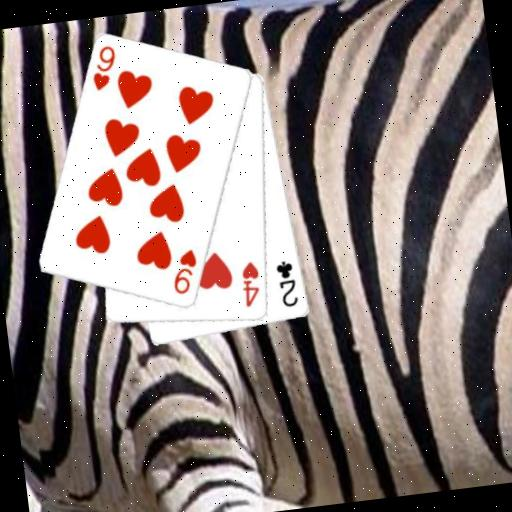2C: (272, 257, 301, 310)
4H: (237, 258, 266, 309)
9H: (167, 246, 203, 298), (86, 42, 122, 94)
